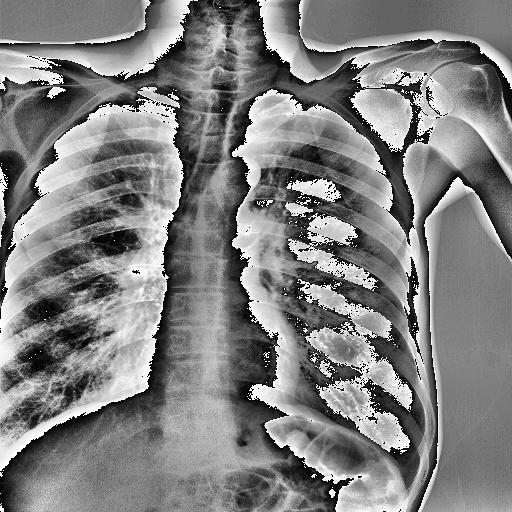13- Pulmonary fibrosis: (231, 218, 280, 260), (236, 216, 282, 258), (232, 220, 276, 259), (288, 99, 312, 136)
